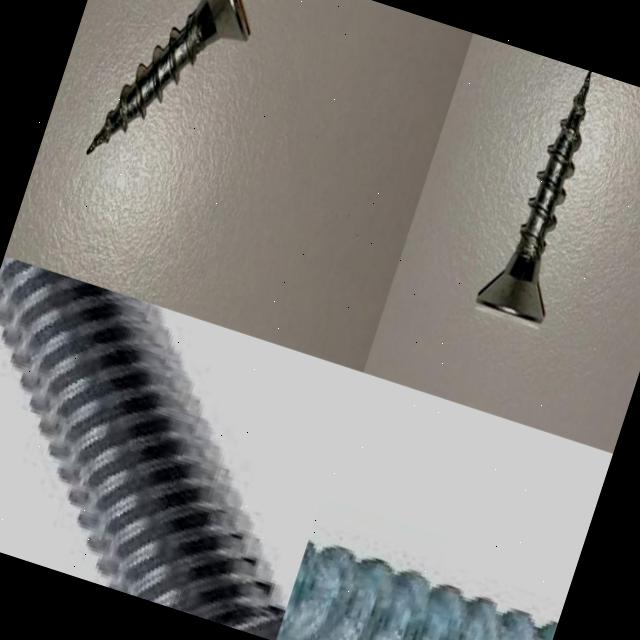Screw: (0, 256, 288, 640), (476, 72, 591, 328), (276, 538, 560, 640), (87, 0, 249, 155)
